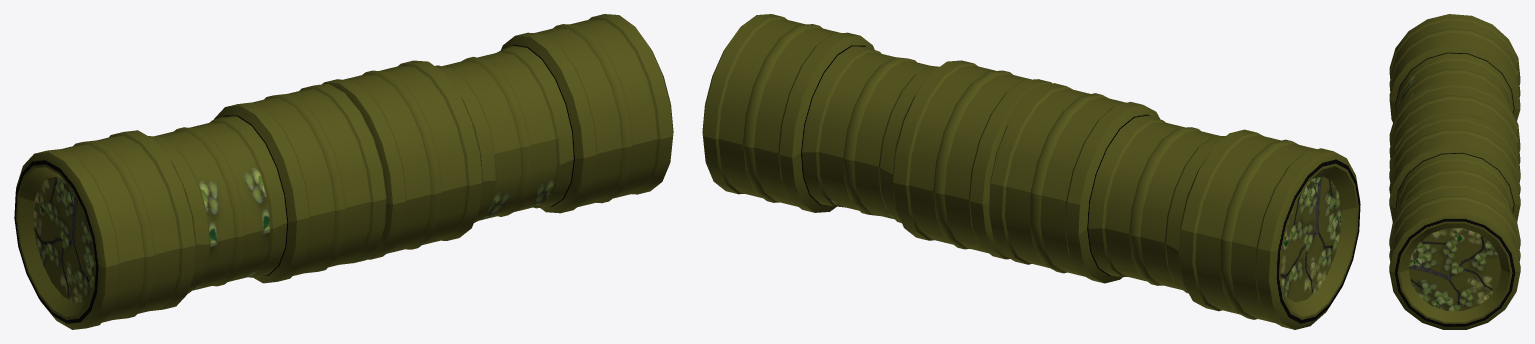
File: pipe_a_i.FBX
3 renders of one model, left to right at view 1: azimuth 30°, elevation 25°; view 2: azimuth 150°, elevation 25°; view 3: azimuth 270°, elevation 25°, orthographic. The views are drawn at different scales.
Visible parts, largest first — view 1: pipe_a_i; view 2: pipe_a_i; view 3: pipe_a_i.
Part boxes in pixels (x1,y1,x2,y2): pipe_a_i: (14, 14, 673, 329); pipe_a_i: (702, 14, 1360, 329); pipe_a_i: (1389, 14, 1520, 329).
Bounding box in the file's own units: 5.44 × 1.5 × 1.49.
